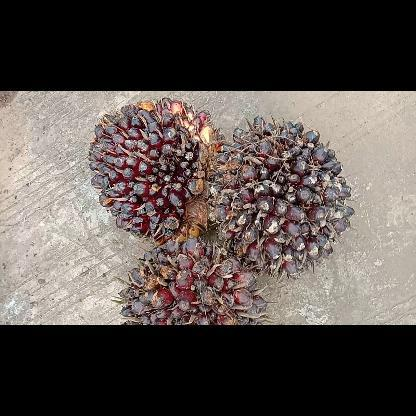TBS mentah: (209, 112, 356, 280), (83, 96, 229, 244), (116, 234, 270, 324)
